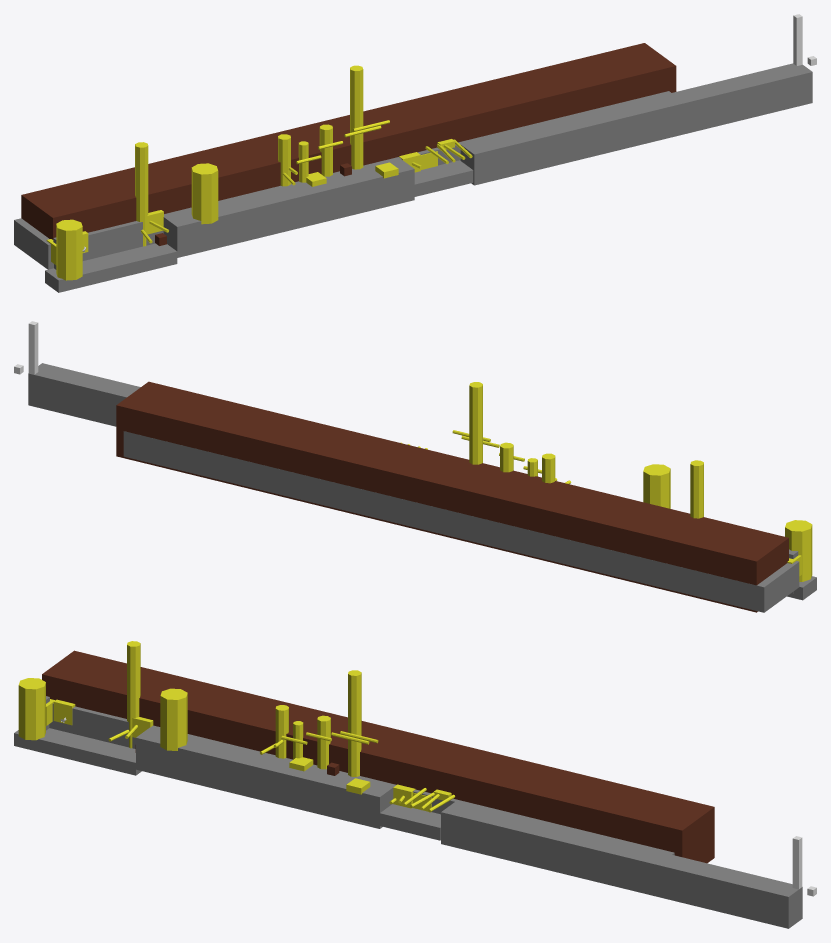
The model's file is map_forest.gltf.
3 renders of one model, top to bottom at view 1: azimuth 30°, elevation 25°; view 2: azimuth 150°, elevation 25°; view 3: azimuth 330°, elevation 25°, orthographic. The views are drawn at different scales.
Parts seen in each view (by area): view 1: Flora, Ground.002, Ground.006, Ground.007, Ground, Tree.001, Tree.008, Ground.003, Tree.031, Tree.004, Tree.030, Tree.002; view 2: Flora, Ground.007, Ground.002, Tree.031, Tree.008, Tree.001, Tree.004, End; view 3: Flora, Ground.002, Ground.006, Ground.007, Ground, Tree.008, Tree.001, Ground.003, Tree.031, Tree.004, Tree.030, Tree.002 (+1 smaller).
Boxes of the visible parts, x1=… form: Flora: x1=21, y1=43, x2=676, y2=239; Ground.002: x1=460, y1=63, x2=812, y2=185; Ground.006: x1=163, y1=159, x2=414, y2=257; Ground.007: x1=14, y1=91, x2=670, y2=269; Ground: x1=45, y1=243, x2=177, y2=292; Tree.001: x1=191, y1=163, x2=218, y2=224; Tree.008: x1=56, y1=219, x2=82, y2=280; Ground.003: x1=414, y1=160, x2=473, y2=196; Tree.031: x1=350, y1=65, x2=363, y2=169; Tree.004: x1=135, y1=142, x2=148, y2=246; Tree.030: x1=319, y1=124, x2=332, y2=176; Tree.002: x1=278, y1=134, x2=290, y2=186; Flora: x1=116, y1=381, x2=788, y2=612; Ground.007: x1=123, y1=431, x2=799, y2=612; Ground.002: x1=28, y1=363, x2=140, y2=426; Tree.031: x1=469, y1=382, x2=482, y2=464; Tree.008: x1=785, y1=520, x2=812, y2=581; Tree.001: x1=643, y1=464, x2=670, y2=508; Tree.004: x1=690, y1=460, x2=703, y2=518; End: x1=28, y1=321, x2=38, y2=374; Flora: x1=42, y1=650, x2=714, y2=863; Ground.002: x1=441, y1=802, x2=802, y2=928; Ground.006: x1=136, y1=727, x2=393, y2=828; Ground.007: x1=49, y1=703, x2=674, y2=855; Ground: x1=14, y1=728, x2=141, y2=775; Tree.008: x1=18, y1=678, x2=45, y2=740; Tree.001: x1=160, y1=688, x2=187, y2=750; Ground.003: x1=379, y1=804, x2=440, y2=840; Tree.031: x1=348, y1=670, x2=361, y2=776; Tree.004: x1=127, y1=641, x2=140, y2=748; Tree.030: x1=317, y1=715, x2=330, y2=769; Tree.002: x1=275, y1=705, x2=288, y2=758.
Bounding box in the file's own units: 129 × 21.79 × 15.32.
